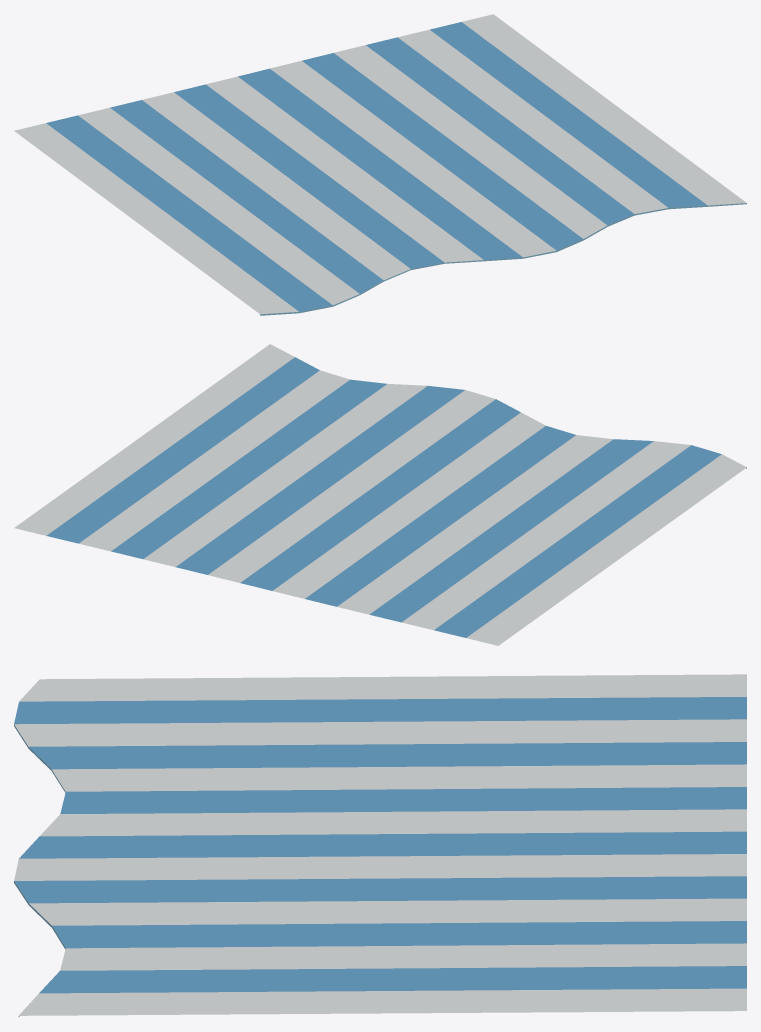
Rendered from glacier_shelf.glb.
3 renders of one model, top to bottom at view 1: azimuth 30°, elevation 25°; view 2: azimuth 150°, elevation 25°; view 3: azimuth 270°, elevation 25°, orthographic. The views are drawn at different scales.
Parts seen in each view (by area): view 1: AntarcticGlacierShelf; view 2: AntarcticGlacierShelf; view 3: AntarcticGlacierShelf.
Boxes of the visible parts, x1,y1,x2,y2 form: AntarcticGlacierShelf: [14, 14, 746, 315]; AntarcticGlacierShelf: [14, 344, 746, 645]; AntarcticGlacierShelf: [14, 674, 746, 1016].
Bounding box in the file's own units: 18000 × 174 × 16584.
